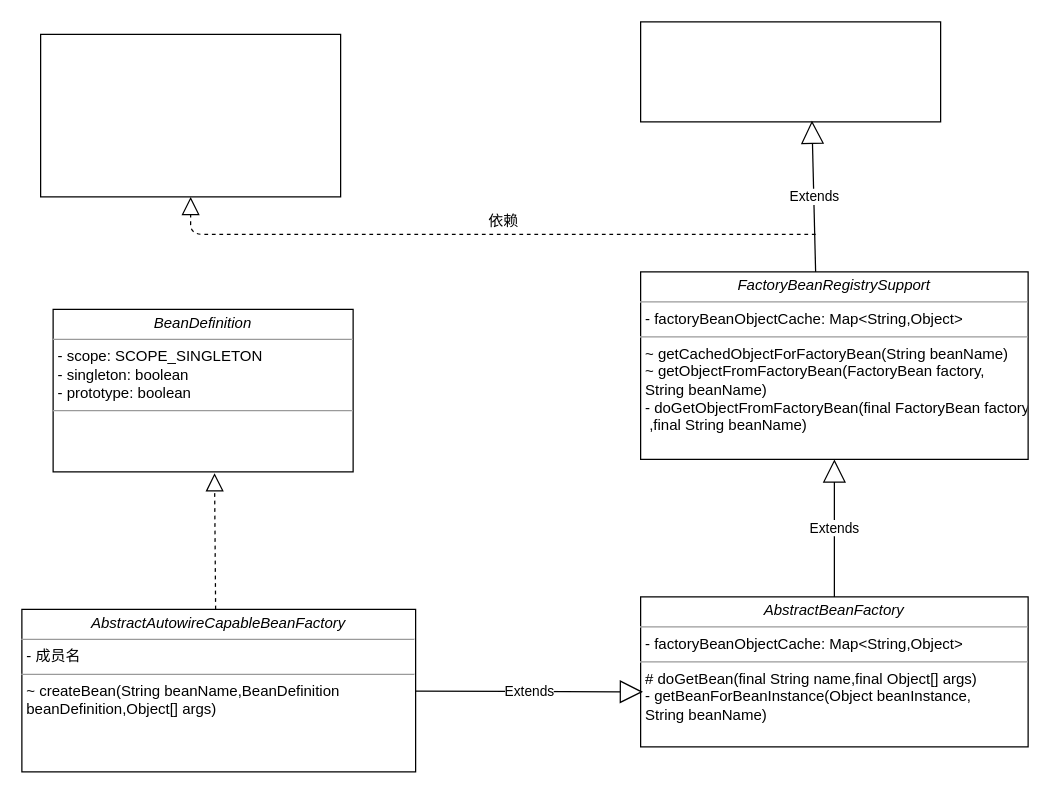
Some shapes in this 1050 by 794 pixel diagram are drawn without their labels. The shapes that lost their labels are listed below. From the top down, each one's box as (x1, y1, x2, y2) in pixels, then its label:
(639, 21, 941, 122): DefaultSingletonBeanRegistry - NULL_OBJECT: Object
(39, 33, 341, 197): <<Interface>> FactoryBean<T> ~ getObject() ~ getObjectType() ~ isSingleton()
